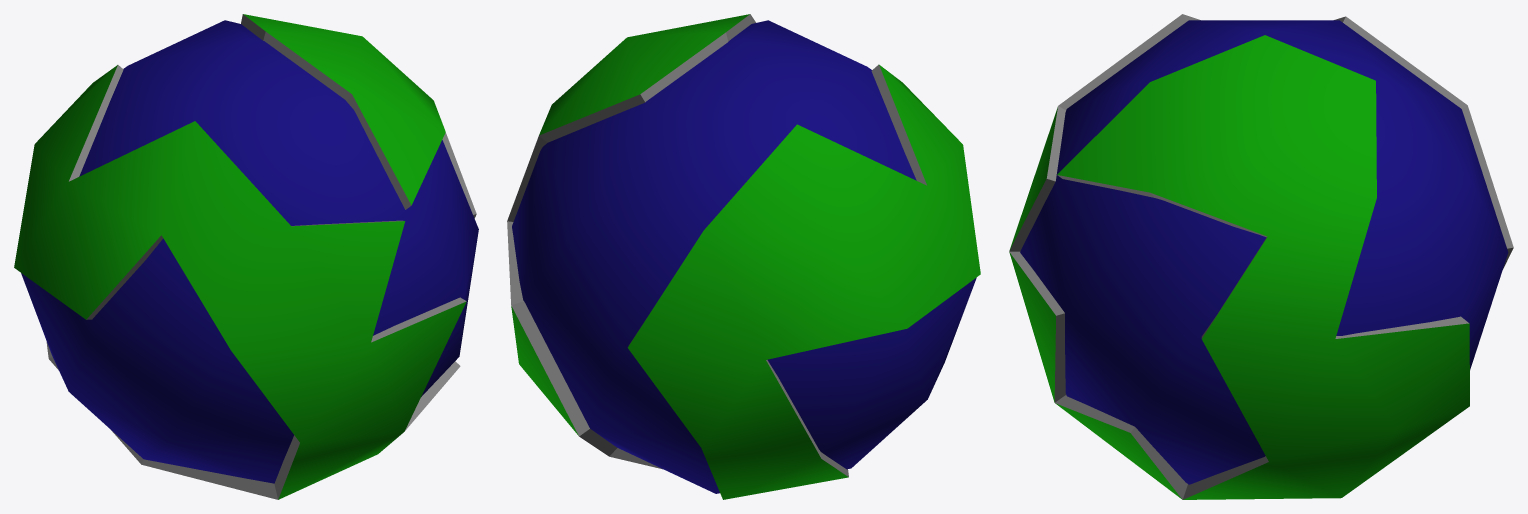
The model's file is Earth.fbx.
The picture shows the model from 3 angles, left to right: view 1: azimuth 30°, elevation 25°; view 2: azimuth 150°, elevation 25°; view 3: azimuth 270°, elevation 25°; orthographic projection. The views are drawn at different scales.
Parts seen in each view (by area): view 1: GeoSphere001, GeoSphere002; view 2: GeoSphere001, GeoSphere002; view 3: GeoSphere001, GeoSphere002.
Part boxes in pixels (left/top/right/bottom): GeoSphere001: left=14, top=14, right=476, bottom=499; GeoSphere002: left=21, top=20, right=478, bottom=483; GeoSphere001: left=507, top=14, right=980, bottom=499; GeoSphere002: left=512, top=20, right=976, bottom=493; GeoSphere001: left=1009, top=14, right=1513, bottom=499; GeoSphere002: left=1020, top=20, right=1508, bottom=484.
Size of the model in its own units: 83.39 by 89.47 by 88.67.
